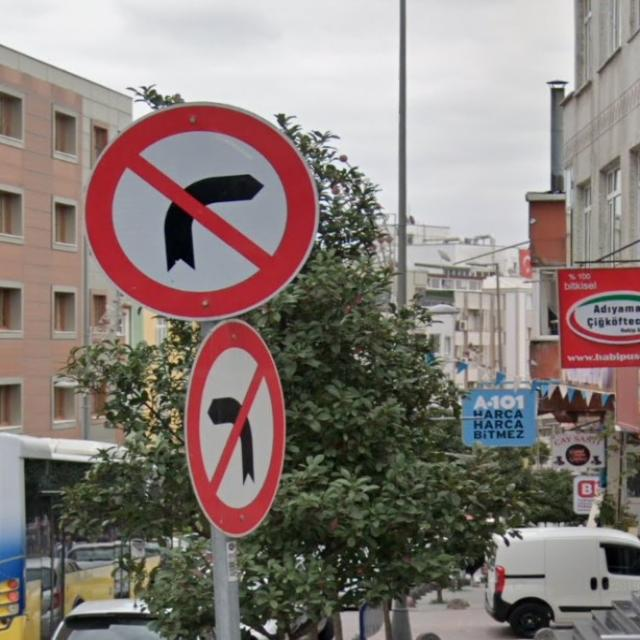sagadonulmez: (83, 102, 319, 319)
soladonulmez: (188, 319, 287, 537)
